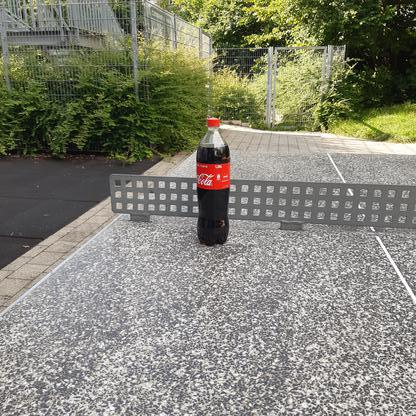coca-cola: (194, 115, 232, 248)
